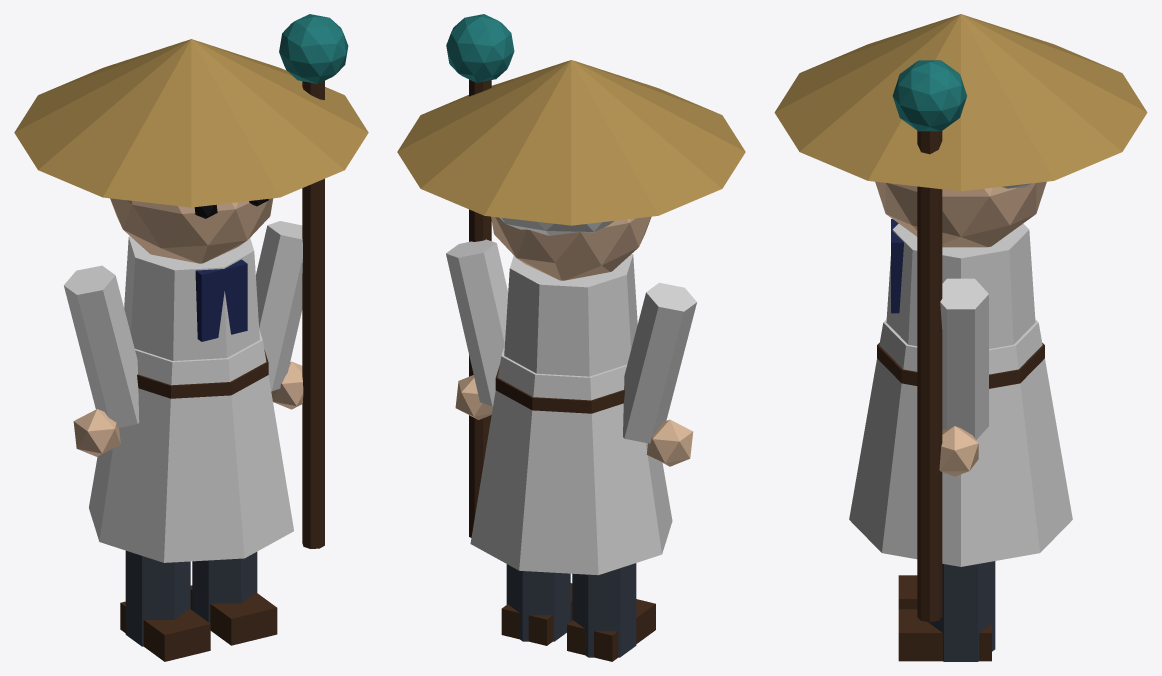
Rendered from SM_GZ_npc_quest_giver.fbx.
The picture shows the model from 3 angles, left to right: view 1: azimuth 30°, elevation 25°; view 2: azimuth 150°, elevation 25°; view 3: azimuth 270°, elevation 25°; orthographic projection. The views are drawn at different scales.
Parts seen in each view (by area): view 1: SM_GZ_npc_quest_giver; view 2: SM_GZ_npc_quest_giver; view 3: SM_GZ_npc_quest_giver.
Part boxes in pixels (x1=…): SM_GZ_npc_quest_giver: x1=14, y1=14, x2=368, y2=661; SM_GZ_npc_quest_giver: x1=397, y1=14, x2=745, y2=661; SM_GZ_npc_quest_giver: x1=774, y1=14, x2=1147, y2=661.
Size of the model in its own units: 120 by 222 by 120.
